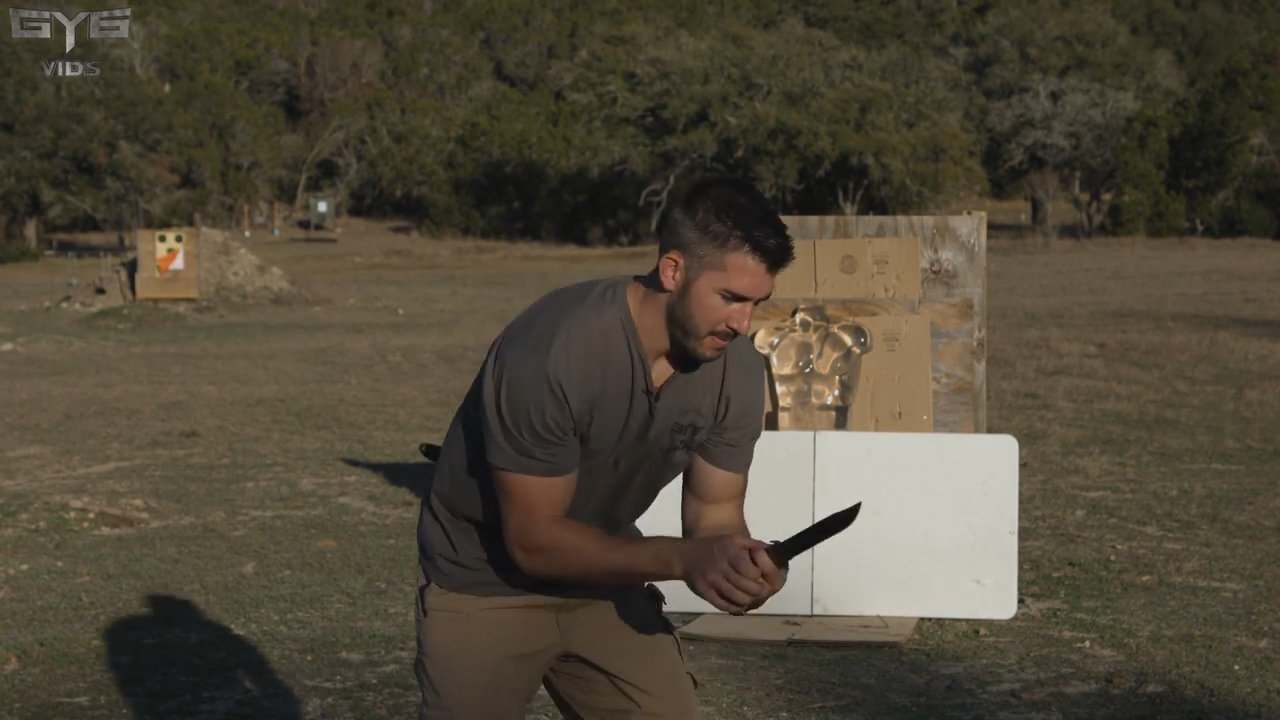knife: (695, 495, 871, 615)
